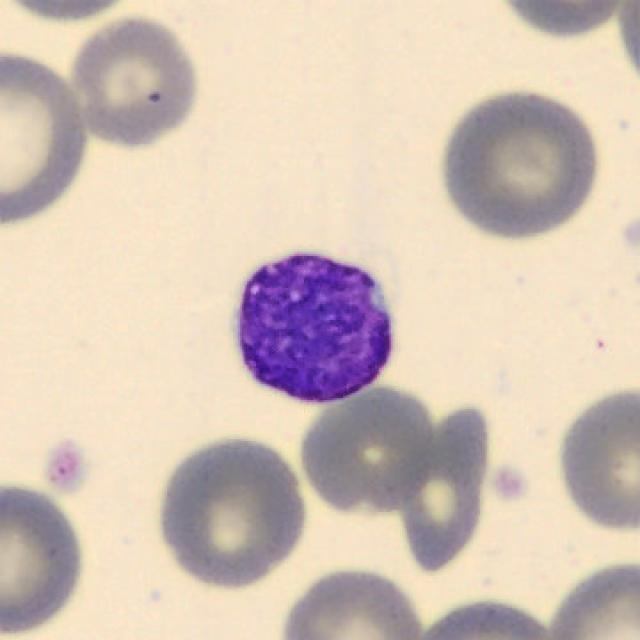Linfocito: (235, 254, 393, 405)
